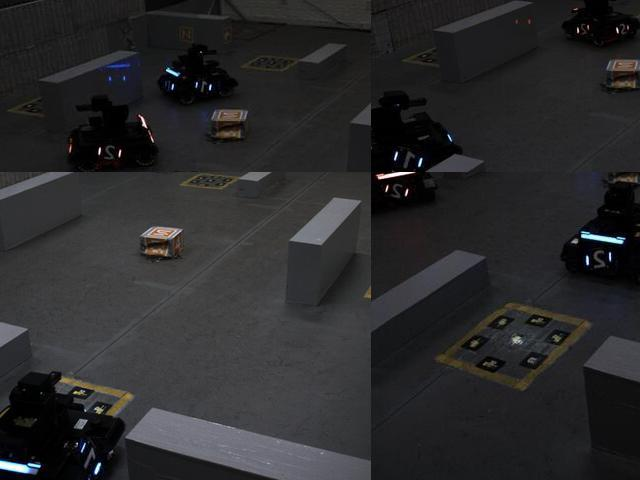armor: (78, 439, 108, 479), (583, 248, 616, 277), (391, 145, 427, 171), (383, 179, 415, 204), (95, 141, 129, 163), (194, 75, 219, 95), (572, 19, 594, 39), (160, 75, 177, 96), (612, 21, 631, 39)
